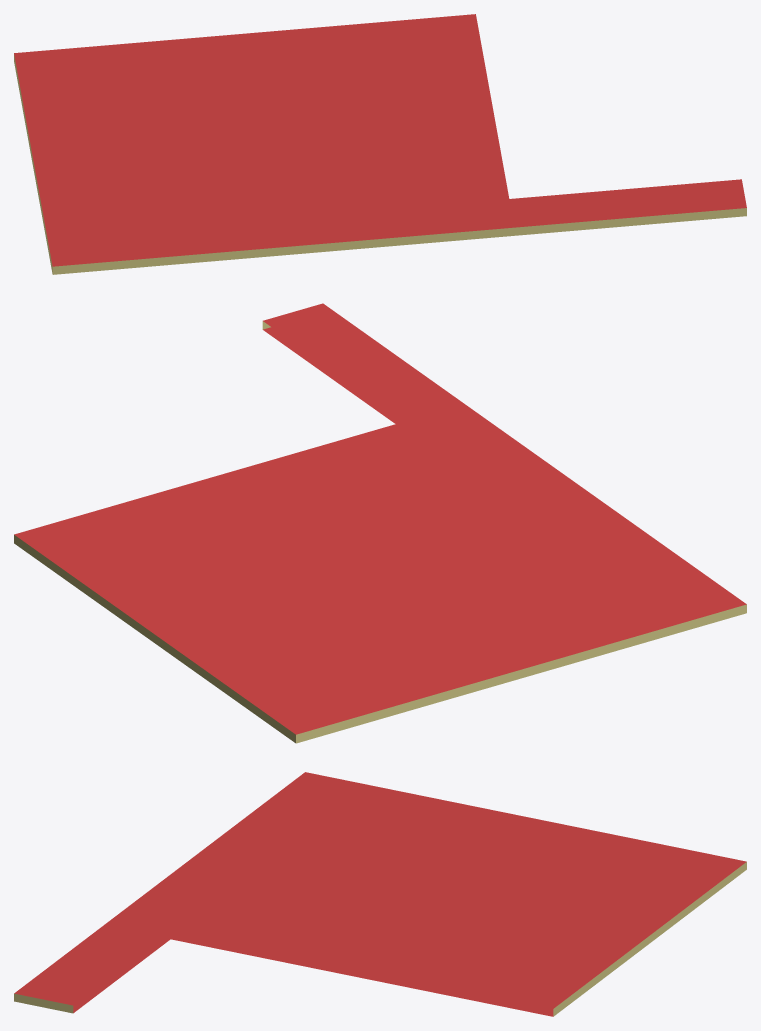
The picture shows the model from 3 angles, top to bottom: view 1: azimuth 30°, elevation 25°; view 2: azimuth 150°, elevation 25°; view 3: azimuth 270°, elevation 25°; orthographic projection. The views are drawn at different scales.
Size of the model in its own units: 7.26 by 8.37 by 0.542.
